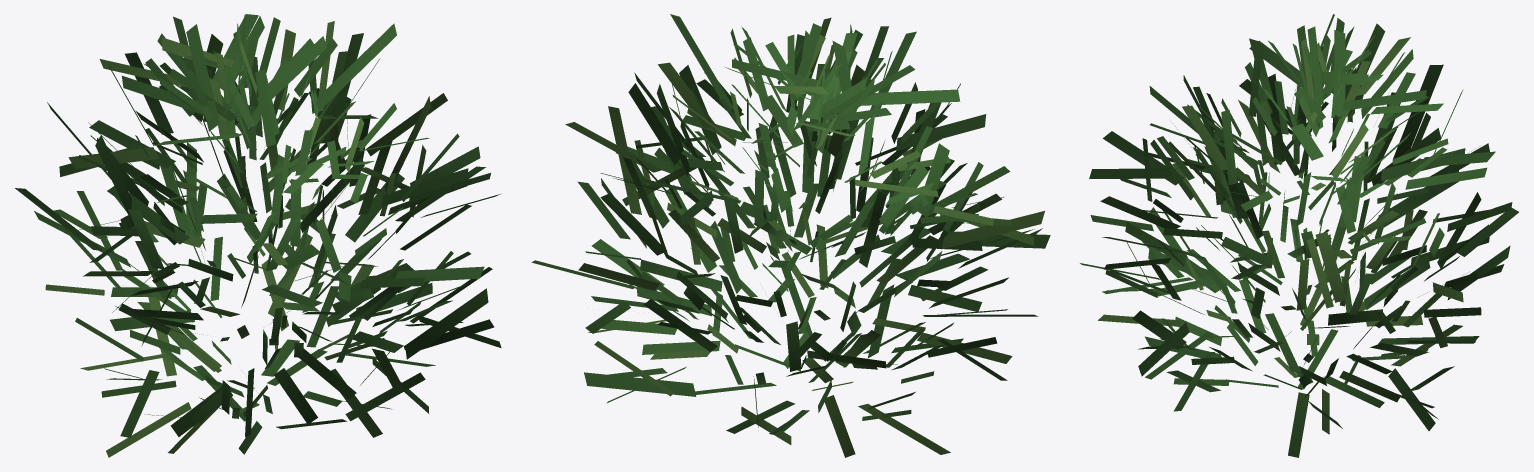
Rendered from arbusto_redondo_1_longe.glb.
3 views of the same model, side by side, from view 1: azimuth 30°, elevation 25°; view 2: azimuth 150°, elevation 25°; view 3: azimuth 270°, elevation 25° (orthographic). The views are drawn at different scales.
Parts seen in each view (by area): view 1: arbusto_redondo_1_longe; view 2: arbusto_redondo_1_longe; view 3: arbusto_redondo_1_longe.
Boxes of the visible parts, x1,y1,x2,y2 form: arbusto_redondo_1_longe: [15, 14, 501, 457]; arbusto_redondo_1_longe: [531, 14, 1050, 457]; arbusto_redondo_1_longe: [1080, 14, 1518, 457].
Size of the model in its own units: 0.7337 by 0.6585 by 0.7149.
